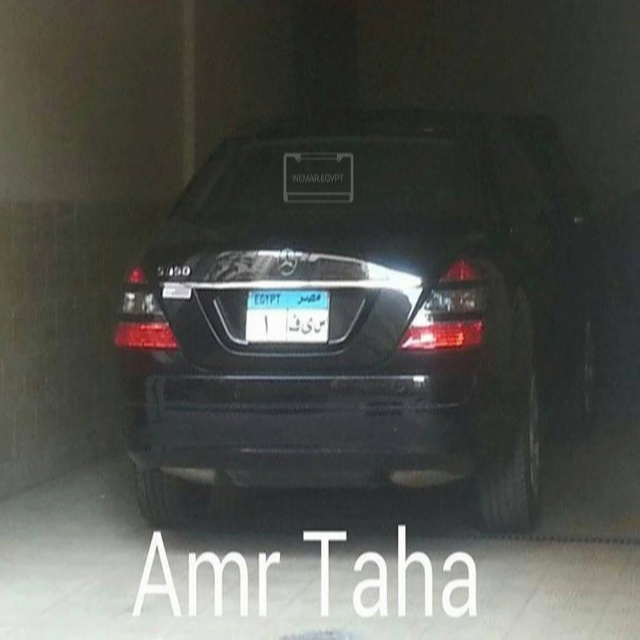License Plate: (244, 287, 334, 347)
